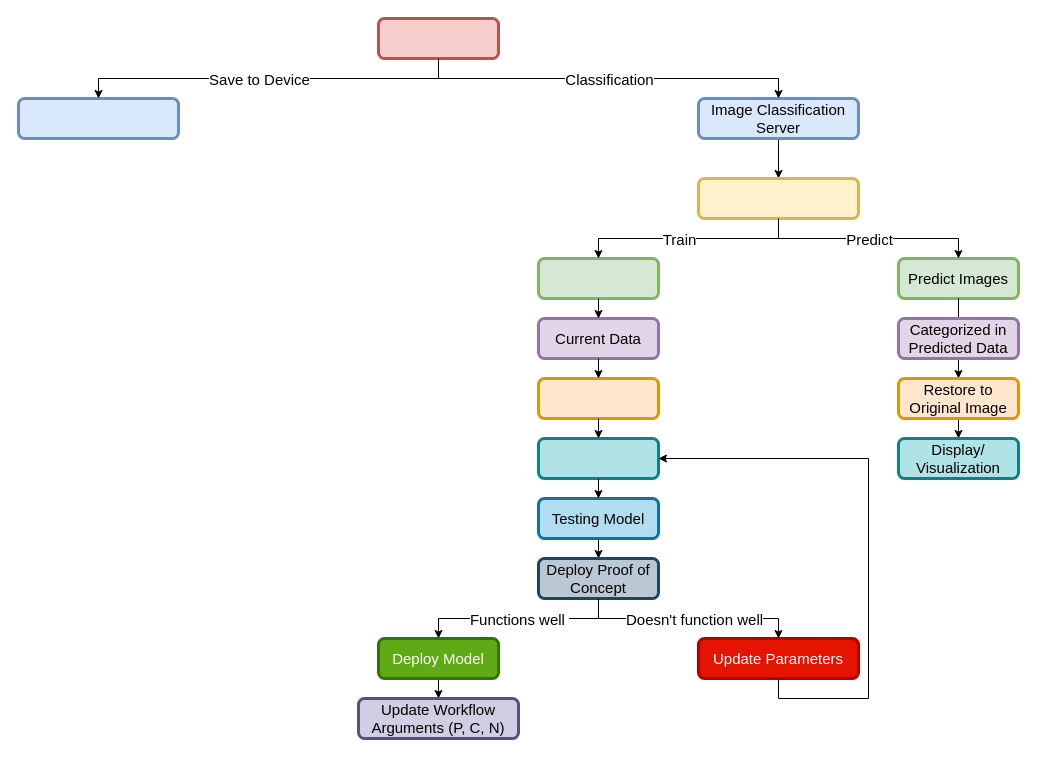
Some shapes in this 1037 by 757 pixel diagram are drawn without their labels. Here are the shapes that lost their labels. From the top down, the centre of each, then its label:
At pixel 438 38: "Captured Image".
At pixel 98 118: "Full Resolution Images".
At pixel 778 198: "Partitioning".
At pixel 598 278: "Labeling".
At pixel 598 398: "Dataset for Model".
At pixel 598 458: "Training Model".
